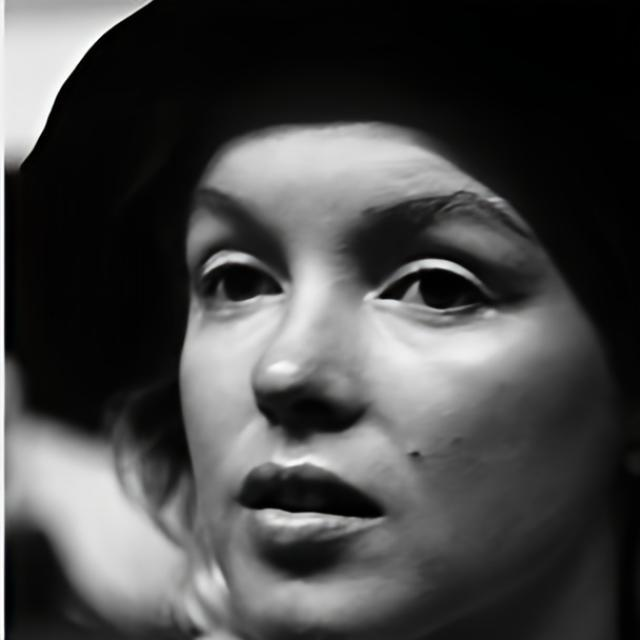surprise: (177, 120, 632, 639)
